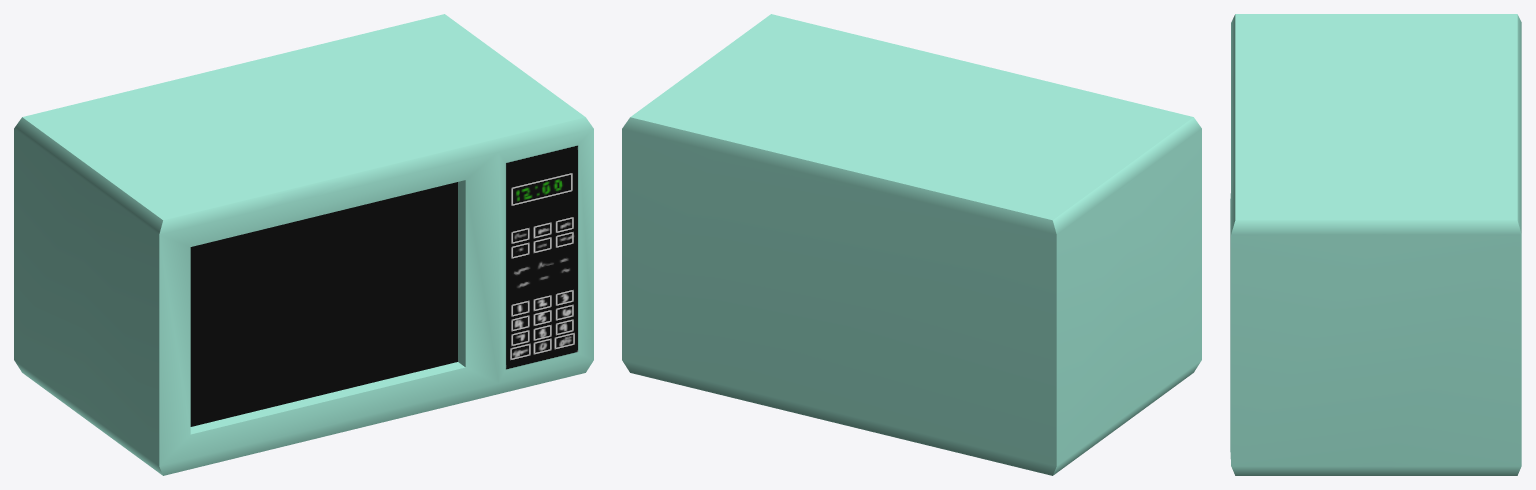
File: microwave.fbx
3 renders of one model, left to right at view 1: azimuth 30°, elevation 25°; view 2: azimuth 150°, elevation 25°; view 3: azimuth 270°, elevation 25°, orthographic.
Visible parts, largest first — view 1: pCube1; view 2: pCube1; view 3: pCube1.
Part boxes in pixels (box(x1,y1,x2,y2)): pCube1: box(14, 14, 593, 475); pCube1: box(622, 14, 1201, 475); pCube1: box(1230, 14, 1521, 475).
Size of the model in its own units: 3.57 by 2 by 2.07.
Materials: 1 (1 with a texture image).
